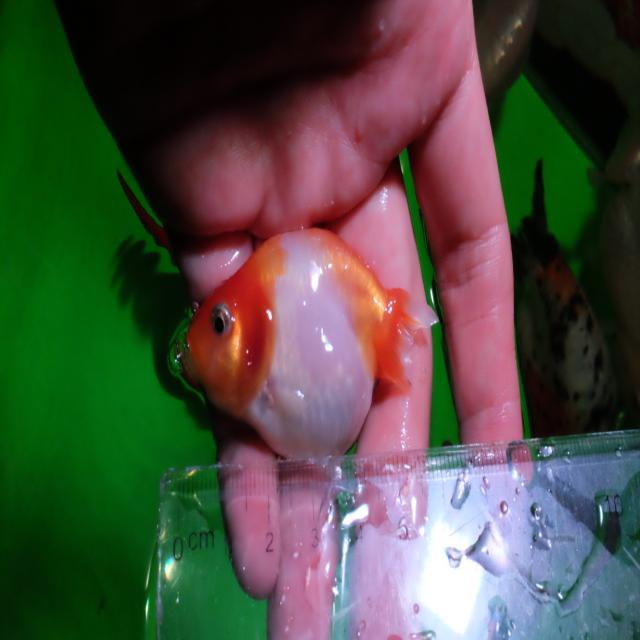Goldfish: (180, 224, 440, 462)
